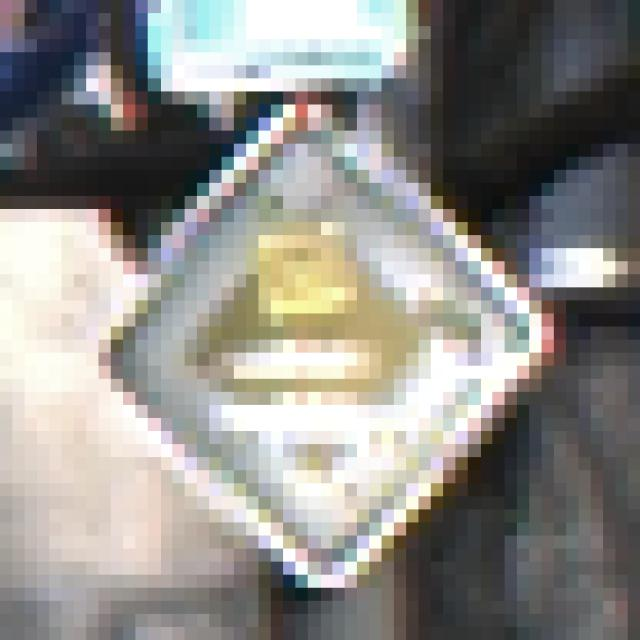Main Road: (75, 79, 567, 576)
